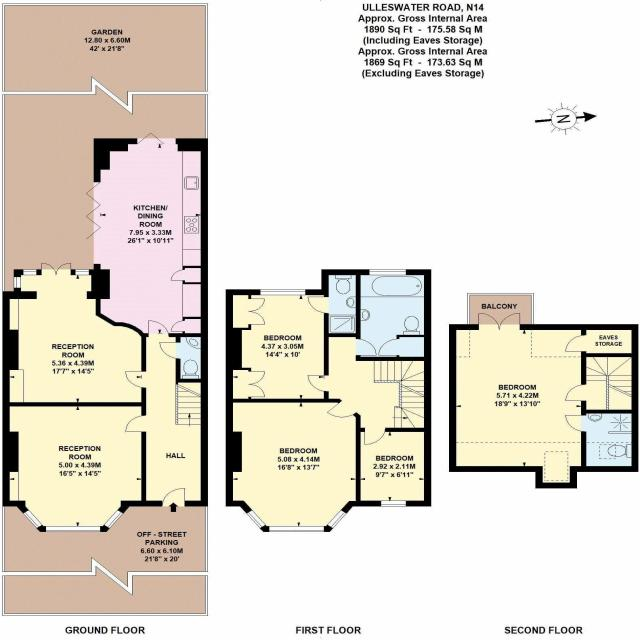DOOR: (325, 400, 357, 419), (161, 487, 186, 507), (147, 319, 171, 338), (563, 334, 587, 353), (563, 414, 587, 433), (306, 374, 329, 393), (125, 414, 147, 433), (364, 427, 386, 446), (124, 371, 147, 389), (158, 342, 181, 360), (306, 296, 329, 314), (377, 338, 400, 356), (564, 384, 587, 402), (355, 338, 377, 356)
FOLDING DOOR: (80, 177, 110, 263)
ROOM: (83, 132, 208, 337), (448, 312, 587, 489), (2, 262, 147, 407), (2, 402, 147, 532), (225, 398, 361, 532), (226, 289, 329, 403), (355, 428, 432, 507)
WINDOW: (245, 509, 267, 530), (326, 509, 348, 529), (103, 509, 124, 529), (22, 509, 43, 529), (268, 525, 325, 532), (45, 525, 101, 532), (259, 289, 306, 296), (369, 269, 407, 276), (380, 500, 407, 507), (13, 276, 21, 288), (23, 269, 37, 275), (75, 269, 89, 275)
